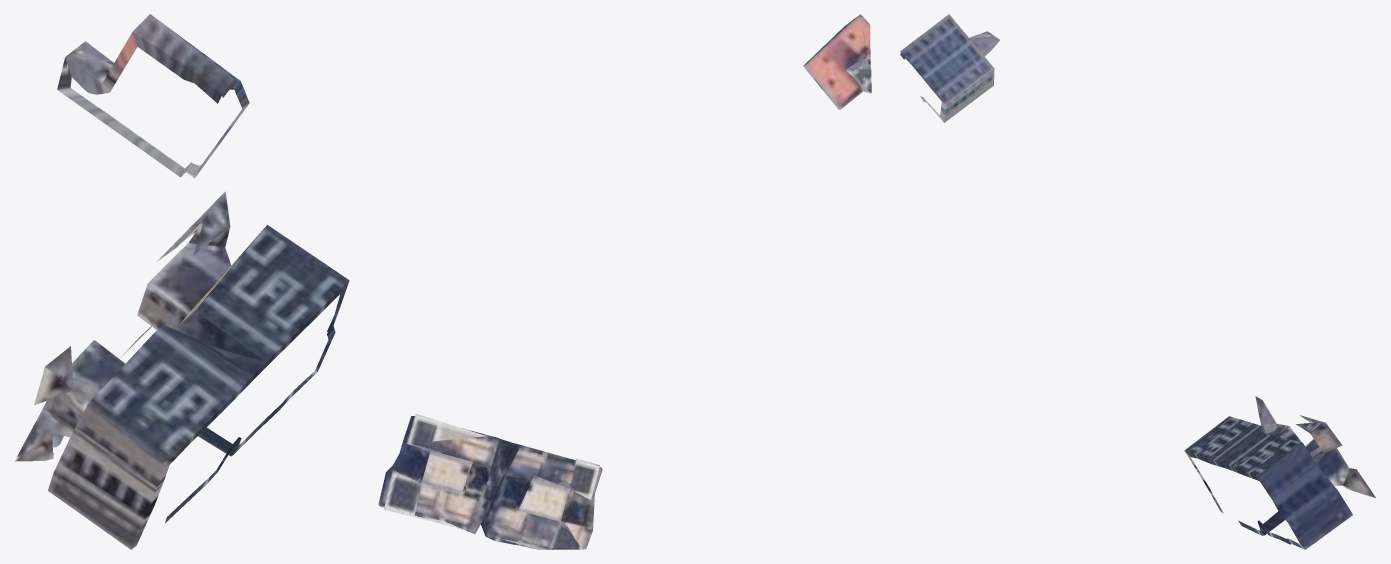
3 views of the same model, side by side, from view 1: azimuth 30°, elevation 25°; view 2: azimuth 150°, elevation 25°; view 3: azimuth 270°, elevation 25° (orthographic). The views are drawn at different scales.
Size of the model in its own units: 99.31 by 134 by 133.
Materials: 1 (1 with a texture image).
